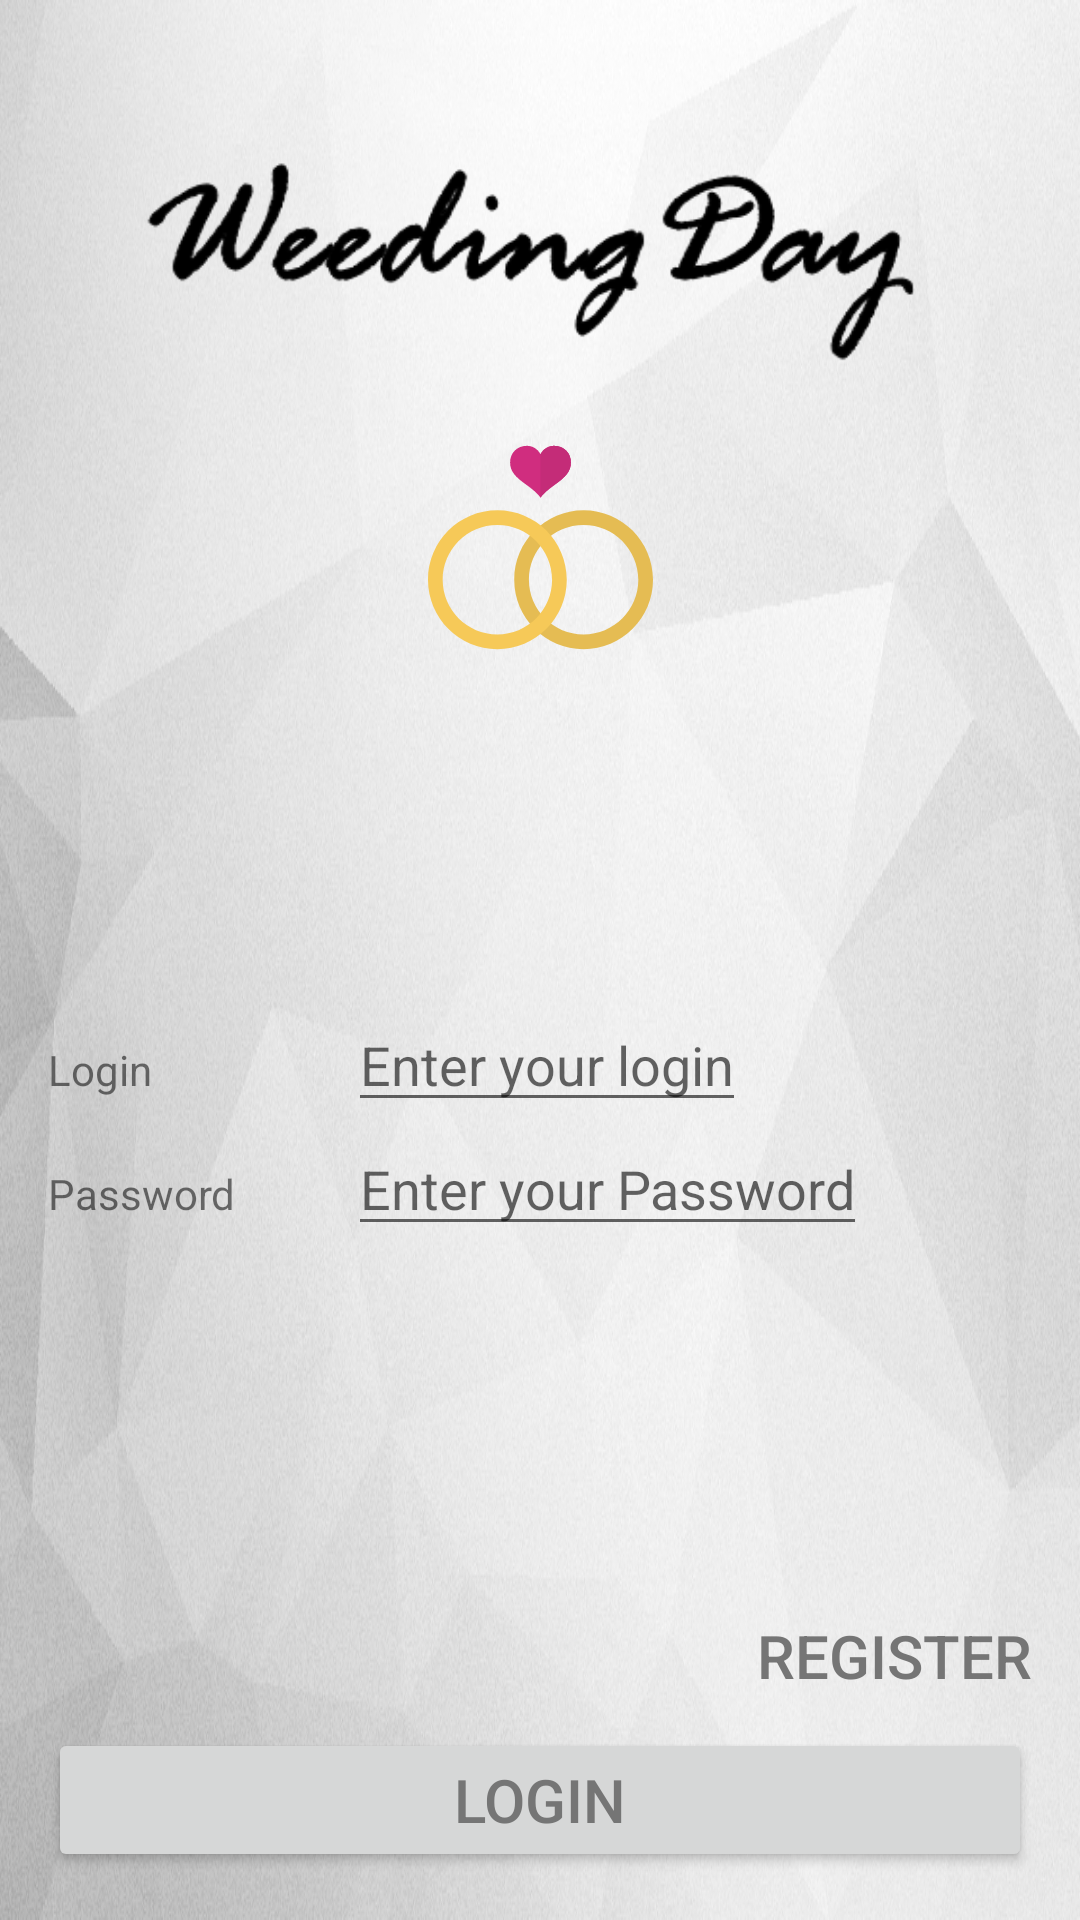

Point at icon controls on the screen. Image size 1080 x 1920, points as point (x, y).
wedding: point (540, 547)
